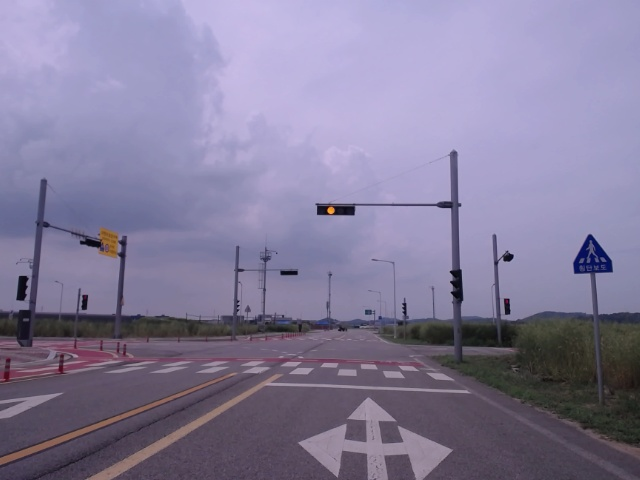orange_4: (314, 204, 357, 216)
